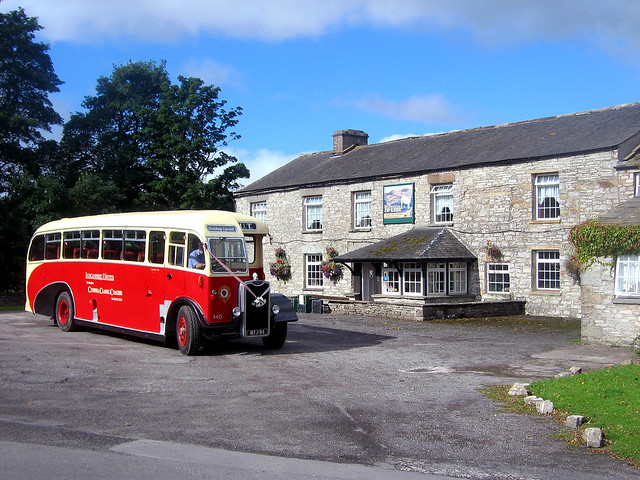bus: (26, 210, 298, 356)
